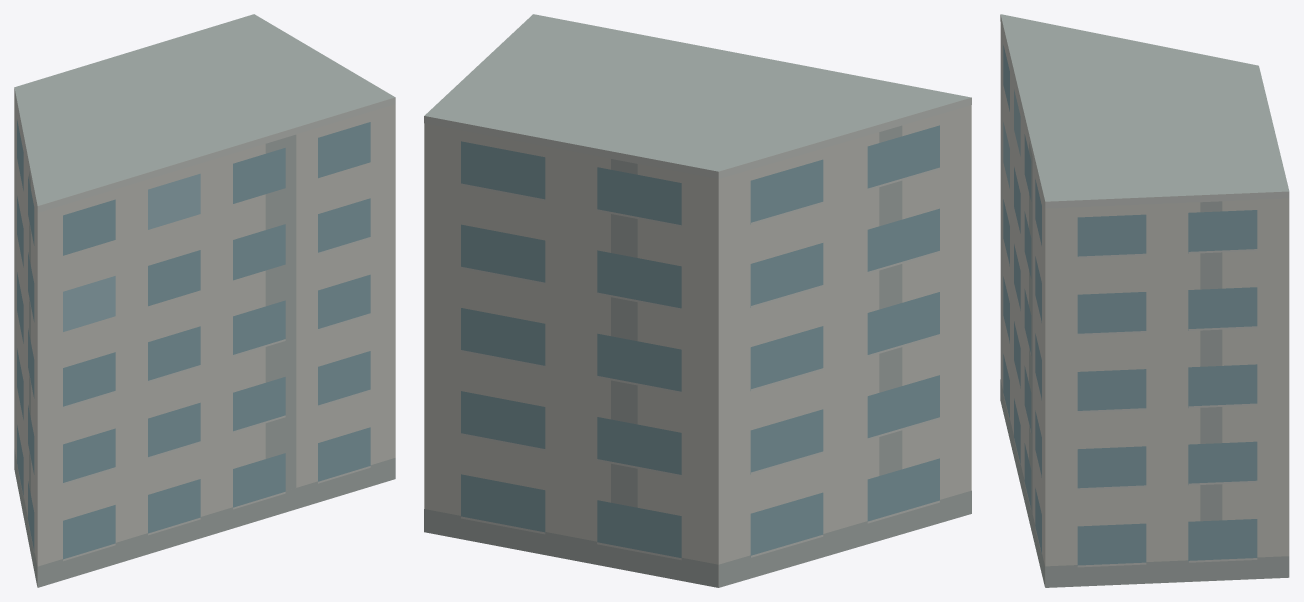
File: survey-upis-32631457.glb
The picture shows the model from 3 angles, left to right: view 1: azimuth 30°, elevation 25°; view 2: azimuth 150°, elevation 25°; view 3: azimuth 270°, elevation 25°; orthographic projection. The views are drawn at different scales.
Visible parts, largest first — view 1: survey-upis-32631457.tmp; view 2: survey-upis-32631457.tmp; view 3: survey-upis-32631457.tmp.
Part boxes in pixels (x1,y1,x2,y2): survey-upis-32631457.tmp: (14, 14, 395, 587); survey-upis-32631457.tmp: (424, 14, 971, 587); survey-upis-32631457.tmp: (1000, 14, 1289, 587).
Bounding box in the file's own units: 13.92 × 13.35 × 9.06.
